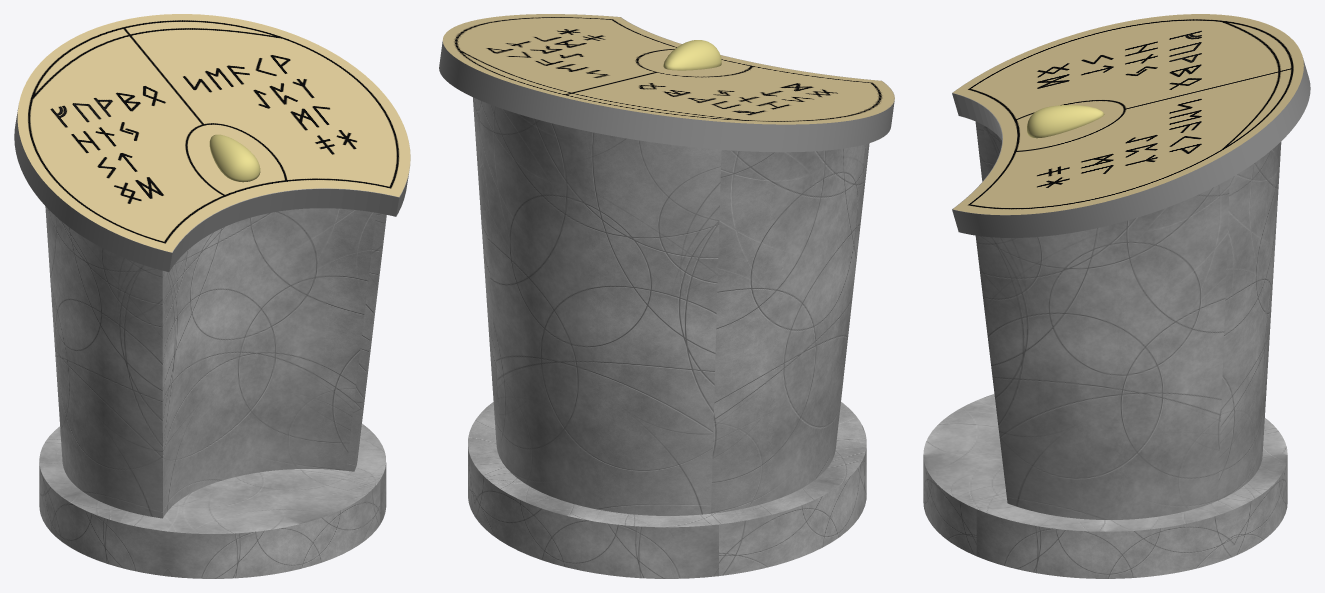
File: dhd.dae
3 views of the same model, side by side, from view 1: azimuth 30°, elevation 25°; view 2: azimuth 150°, elevation 25°; view 3: azimuth 270°, elevation 25° (orthographic). The views are drawn at different scales.
Visible parts, largest first — view 1: Cylinder.001, Cylinder, Cylinder.002, Stone; view 2: Cylinder.001, Cylinder, Cylinder.002, Stone; view 3: Cylinder.001, Cylinder, Cylinder.002, Stone.
Boxes of the visible parts, bbox=[...] form: Cylinder.001: bbox=[45, 206, 386, 518]; Cylinder: bbox=[14, 14, 410, 271]; Cylinder.002: bbox=[39, 423, 386, 578]; Stone: bbox=[209, 134, 260, 182]; Cylinder.001: bbox=[473, 97, 869, 515]; Cylinder: bbox=[439, 14, 894, 152]; Cylinder.002: bbox=[468, 402, 866, 578]; Stone: bbox=[663, 40, 721, 70]; Cylinder.001: bbox=[975, 121, 1281, 519]; Cylinder: bbox=[952, 14, 1310, 237]; Cylinder.002: bbox=[923, 394, 1287, 578]; Stone: bbox=[1027, 105, 1104, 138].
Size of the model in its own units: 0.8 by 0.744 by 0.9247.
Materials: 3 (2 with a texture image).
